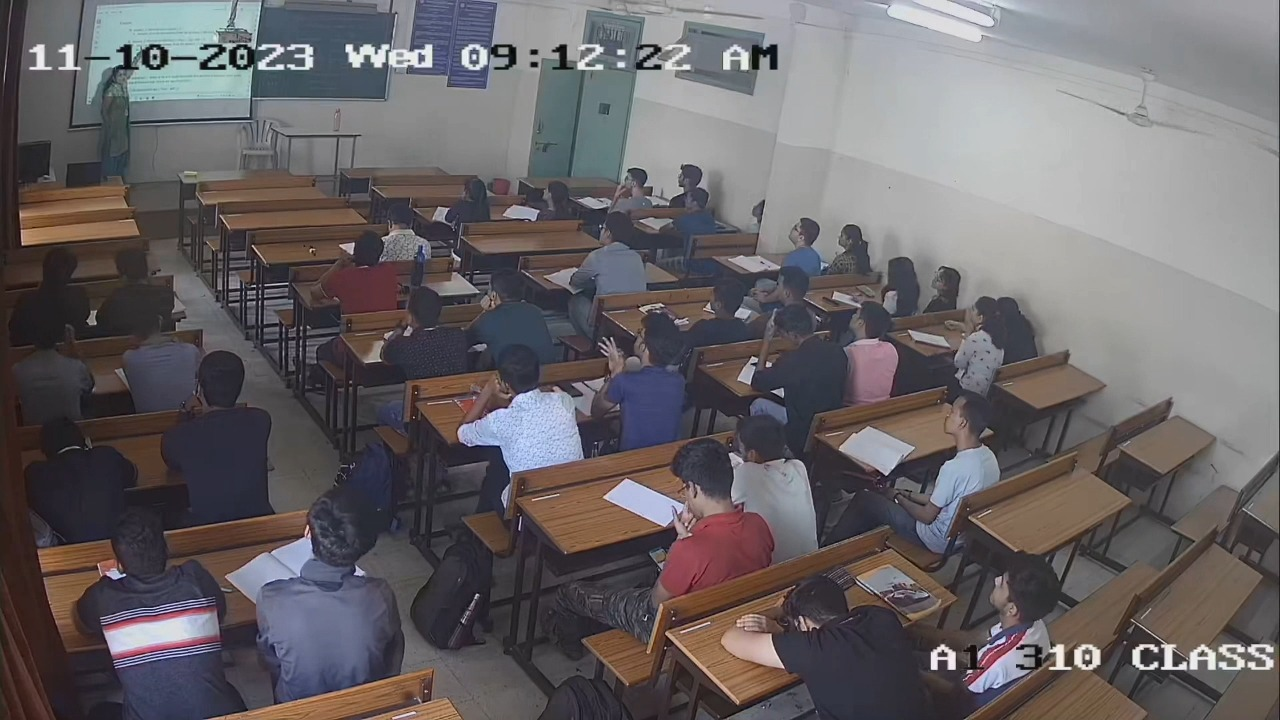cell-phones: (554, 379, 588, 398), (646, 546, 667, 572), (856, 284, 878, 299)
person: (650, 440, 773, 575), (600, 321, 684, 443), (879, 257, 921, 318)
